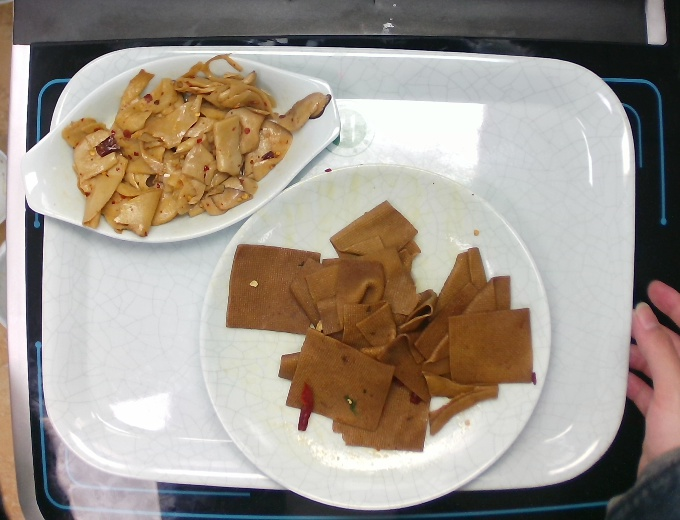JYsf-Da_Yuan_Pan: (192, 154, 562, 518)
JYsf-Yu_Pan: (15, 44, 348, 251)
